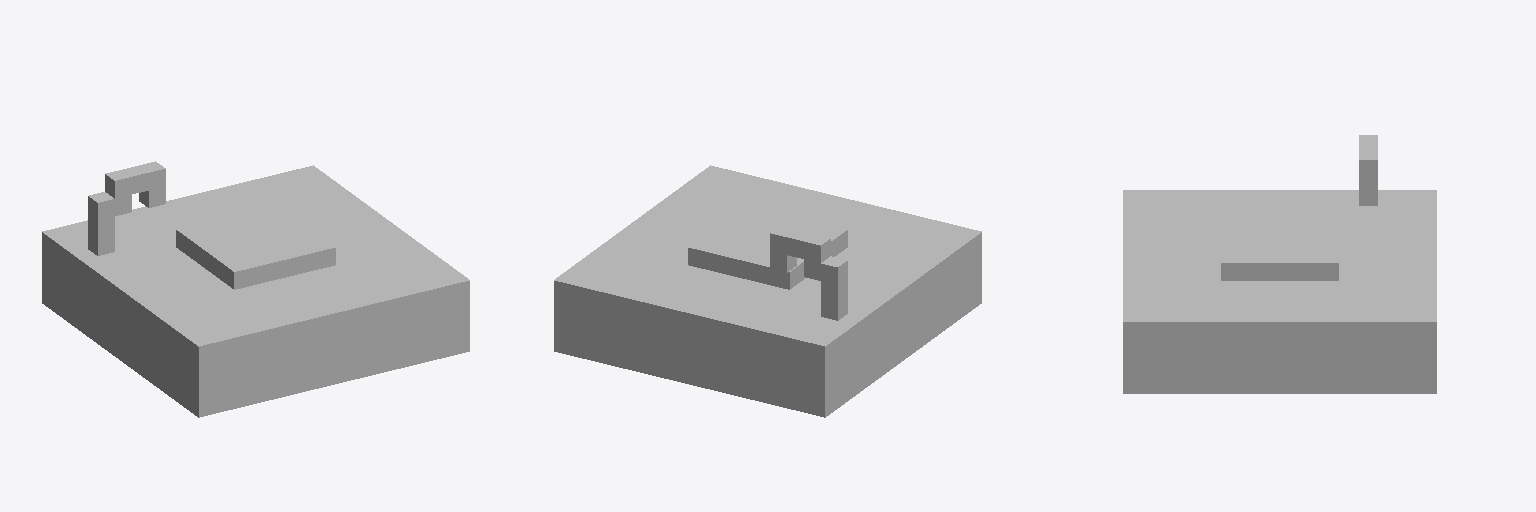
The model's file is recordempty.obj.
3 views of the same model, side by side, from view 1: azimuth 30°, elevation 25°; view 2: azimuth 150°, elevation 25°; view 3: azimuth 270°, elevation 25° (orthographic).
Parts seen in each view (by area): view 1: cube; view 2: cube; view 3: cube.
Boxes of the visible parts, x1=… form: cube: x1=42, y1=161, x2=469, y2=417; cube: x1=554, y1=165, x2=981, y2=417; cube: x1=1123, y1=135, x2=1436, y2=393.
Size of the model in its own units: 1 by 0.5 by 1.